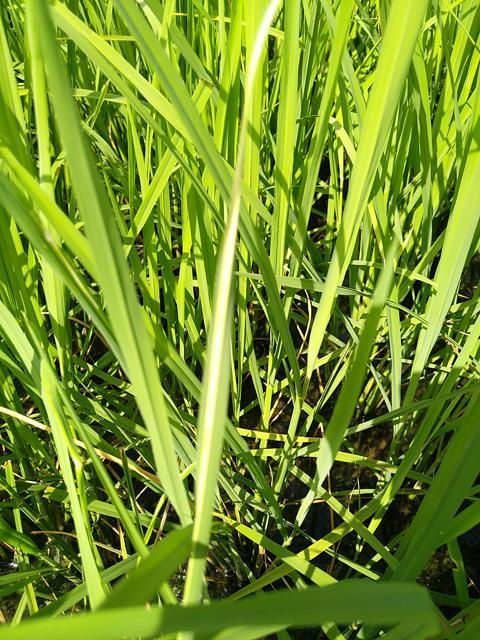Leaf Blight: (184, 8, 278, 607)
